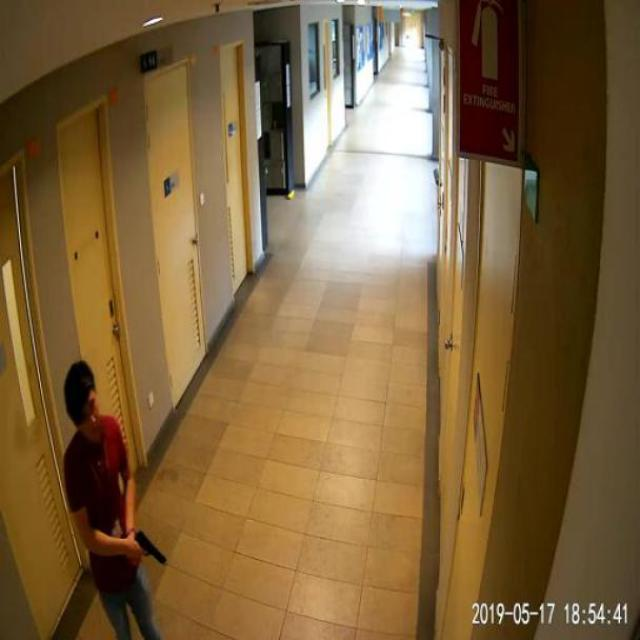Gun: (118, 521, 171, 573)
